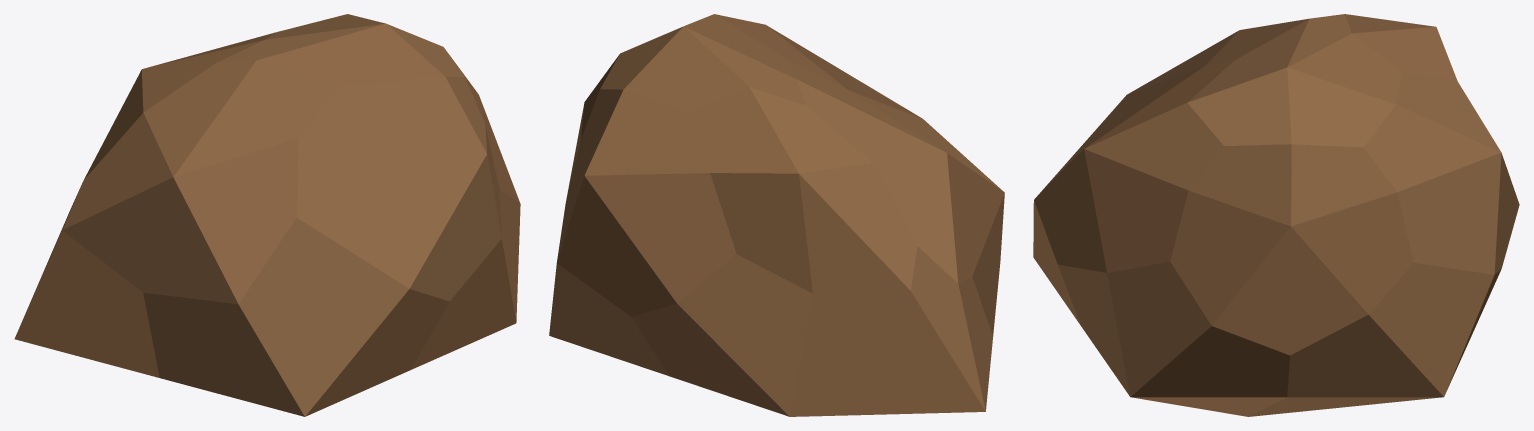
The model's file is Rock_1_Light_Brown.fbx.
3 views of the same model, side by side, from view 1: azimuth 30°, elevation 25°; view 2: azimuth 150°, elevation 25°; view 3: azimuth 270°, elevation 25° (orthographic). The views are drawn at different scales.
Visible parts, largest first — view 1: Rock_1_Light_Brown; view 2: Rock_1_Light_Brown; view 3: Rock_1_Light_Brown.
Boxes of the visible parts, x1,y1,x2,y2 form: Rock_1_Light_Brown: (14, 14, 520, 416); Rock_1_Light_Brown: (549, 14, 1004, 416); Rock_1_Light_Brown: (1033, 14, 1519, 416).
Bounding box in the file's own units: 189 × 132 × 163.
